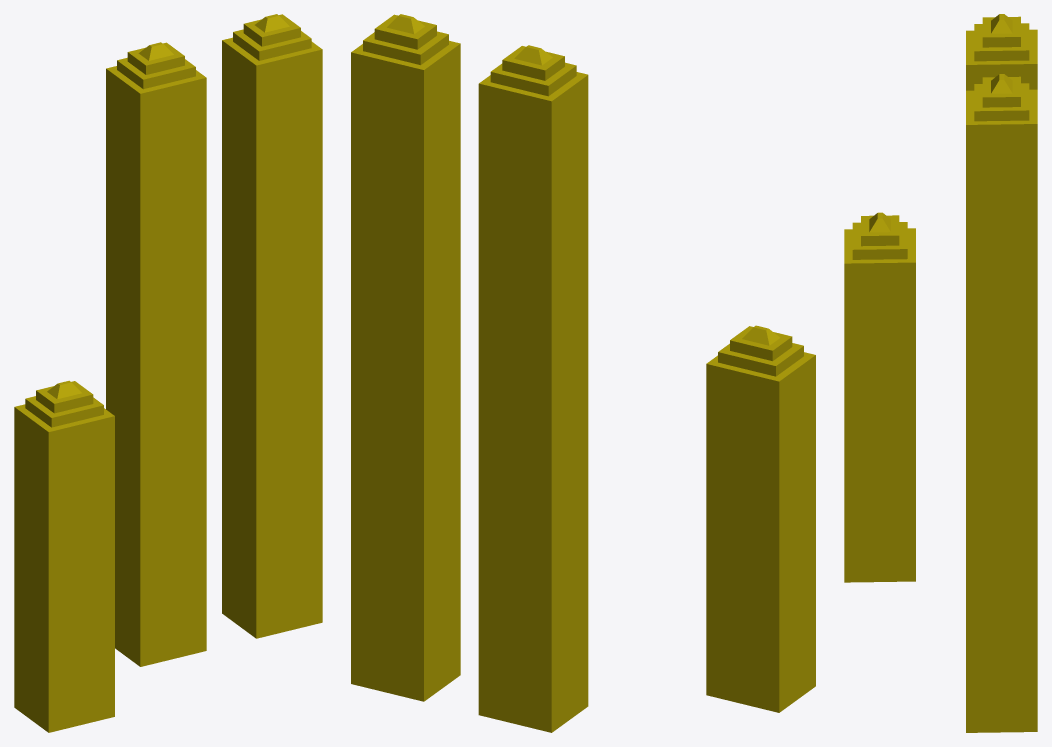
File: Obelisks.fbx
The picture shows the model from 3 angles, left to right: view 1: azimuth 30°, elevation 25°; view 2: azimuth 150°, elevation 25°; view 3: azimuth 270°, elevation 25°; orthographic projection. The views are drawn at different scales.
Parts seen in each view (by area): view 1: Obelisks; view 2: Obelisks; view 3: Obelisks.
Part boxes in pixels (left/top/right/bottom): Obelisks: left=14, top=14, right=322, bottom=732; Obelisks: left=351, top=14, right=815, bottom=732; Obelisks: left=844, top=14, right=1037, bottom=732.
Size of the model in its own units: 2003 by 3474 by 954.
